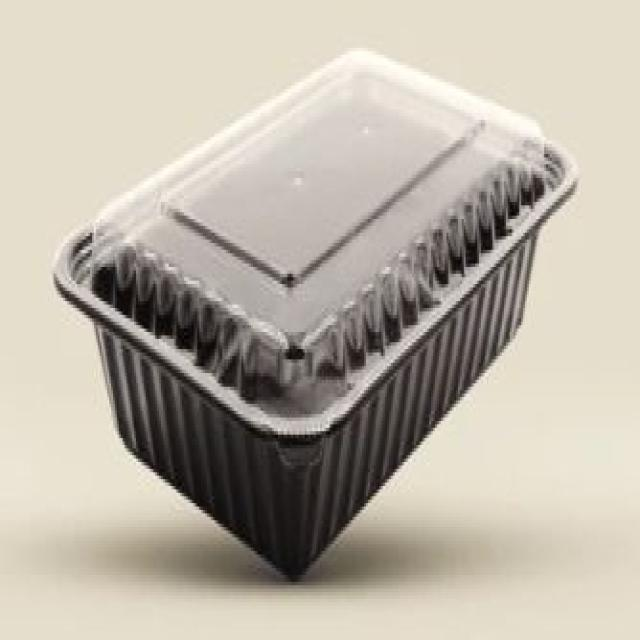general: (51, 44, 578, 582)
